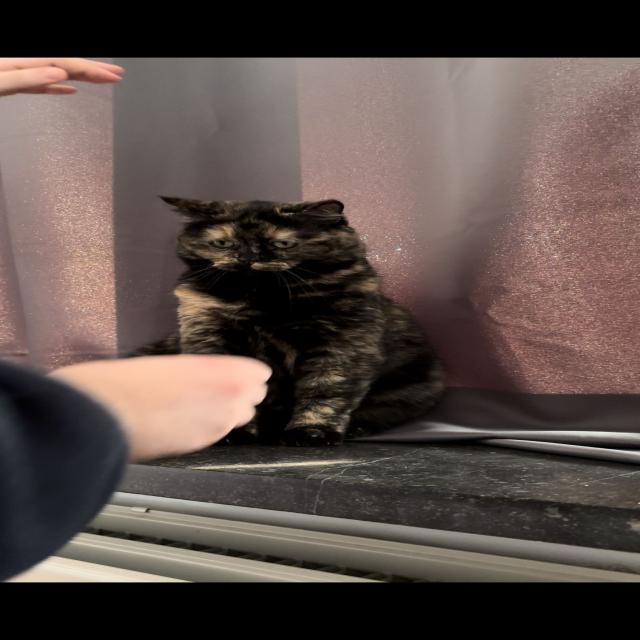authorized: (126, 195, 448, 448)
